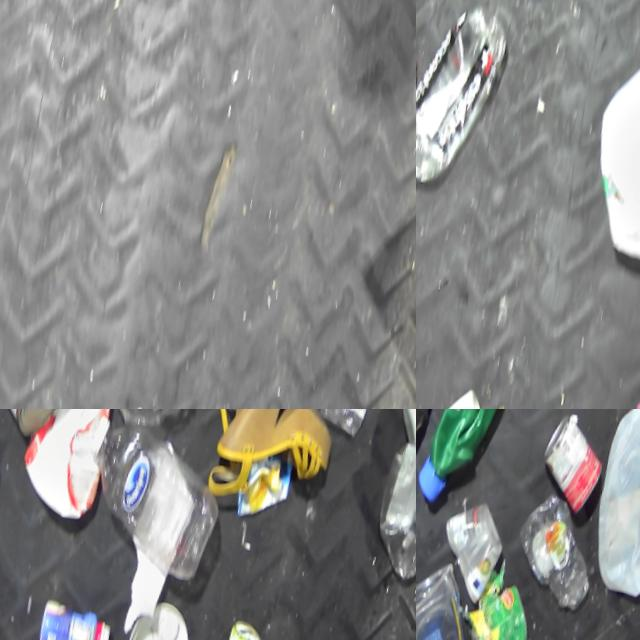can: (520, 409, 611, 522), (447, 575, 538, 640), (209, 617, 262, 640)
milk_jug: (563, 51, 640, 286), (0, 409, 137, 528), (564, 409, 640, 614)
non_white_jug: (416, 409, 565, 527)
plastic_bottle: (55, 409, 233, 592), (416, 0, 524, 224), (492, 482, 605, 621)
